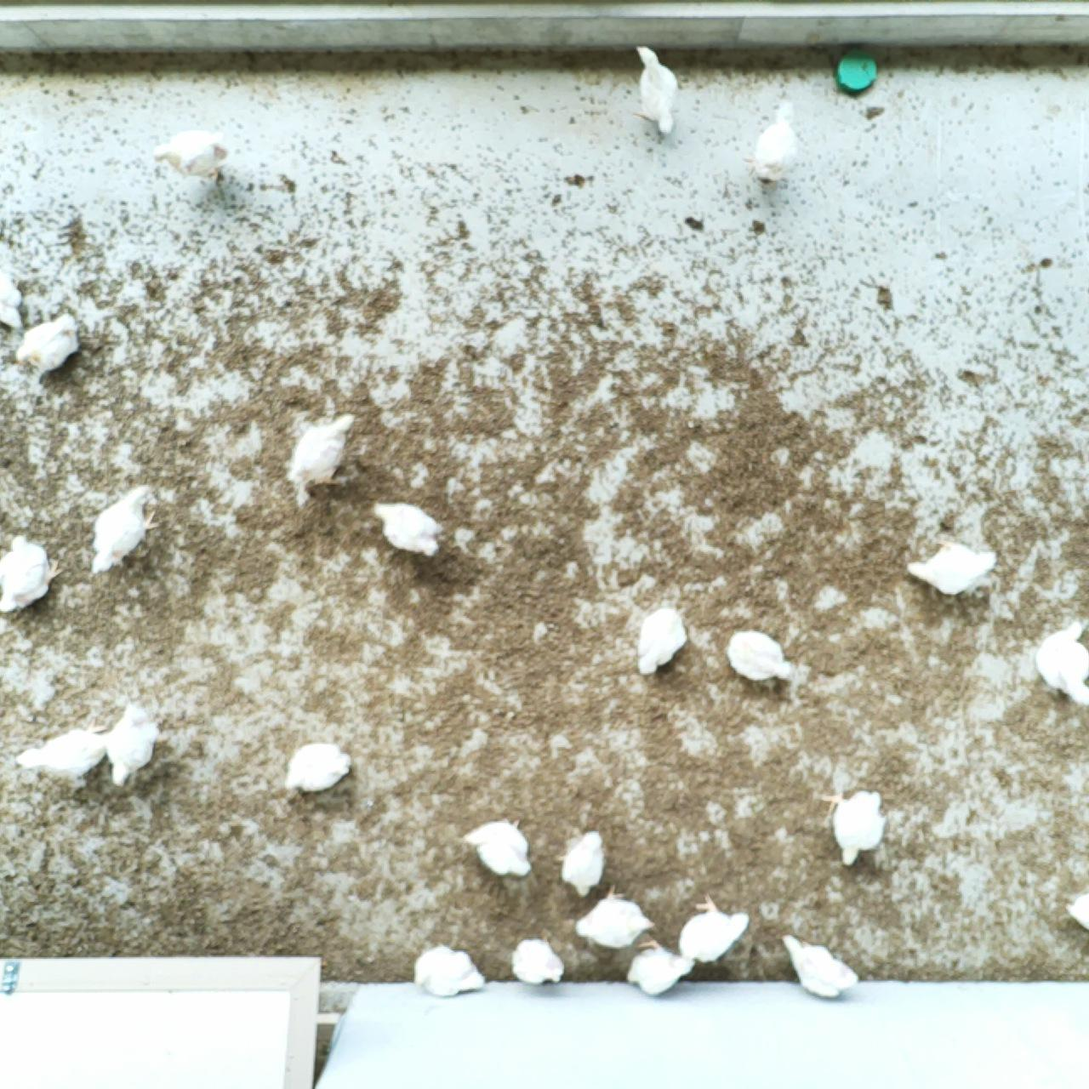chicken: (84, 482, 158, 575), (902, 538, 1001, 597), (288, 411, 358, 493), (17, 722, 112, 782), (820, 784, 888, 867), (575, 884, 658, 950), (781, 931, 860, 1000), (628, 42, 681, 140), (0, 532, 64, 613), (676, 895, 751, 964), (1031, 621, 1089, 710), (106, 700, 163, 787), (751, 97, 801, 193), (150, 127, 230, 184), (15, 313, 81, 379), (465, 817, 535, 879), (721, 627, 796, 684), (626, 937, 697, 997), (372, 500, 444, 558), (412, 944, 487, 998), (283, 741, 352, 796), (636, 606, 689, 676), (560, 827, 606, 898), (507, 933, 565, 989), (0, 266, 27, 330), (1065, 890, 1089, 935)
